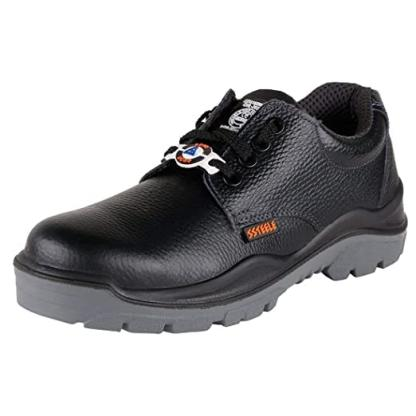bota: (10, 75, 412, 336)
